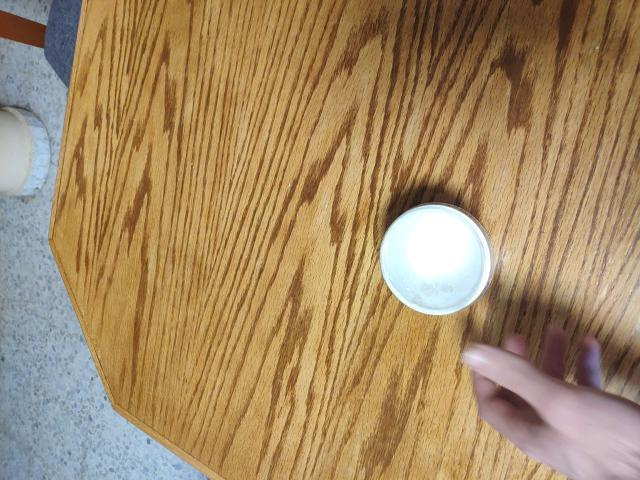cotage: (378, 206, 518, 324)
